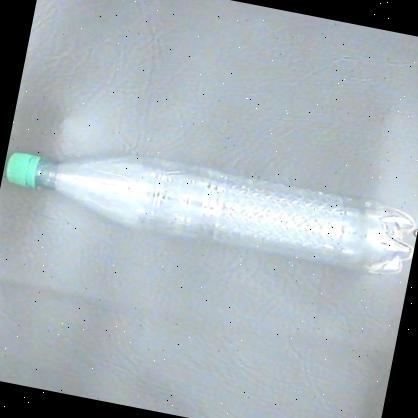bottle: (0, 125, 418, 287)
cap: (0, 144, 49, 198)
